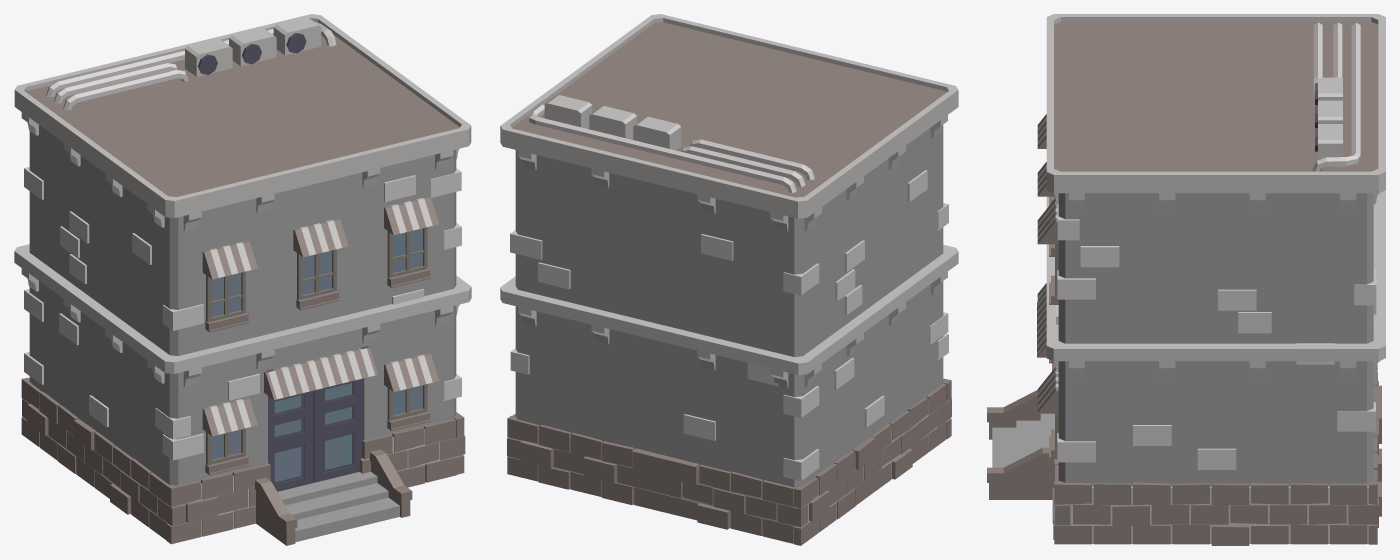
The model's file is 2Story Double.glb.
3 views of the same model, side by side, from view 1: azimuth 30°, elevation 25°; view 2: azimuth 150°, elevation 25°; view 3: azimuth 270°, elevation 25° (orthographic). The views are drawn at different scales.
Parts seen in each view (by area): view 1: 2Story_Double; view 2: 2Story_Double; view 3: 2Story_Double.
Boxes of the visible parts, x1,y1,x2,y2 form: 2Story_Double: (14,14,471,545); 2Story_Double: (500,14,958,545); 2Story_Double: (987,14,1385,545).
Bounding box in the file's own units: 5.81 × 6.59 × 6.08.
Materials: 1 (1 with a texture image).
